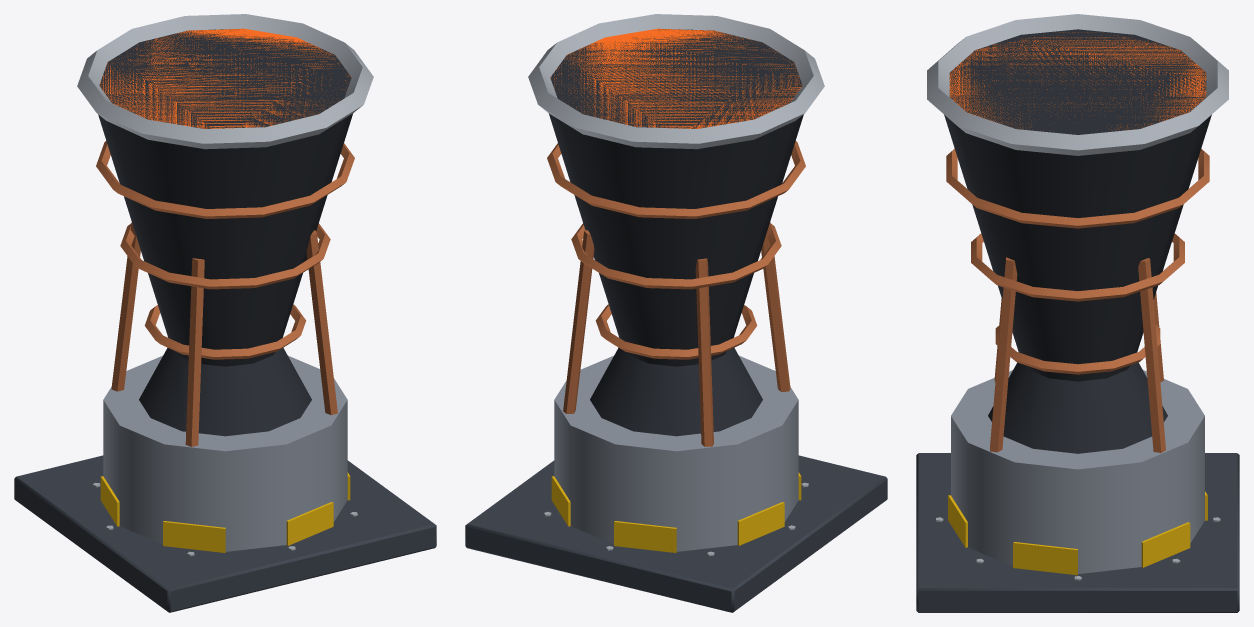
File: nozzle_main_thruster_bell.glb
The picture shows the model from 3 angles, left to right: view 1: azimuth 30°, elevation 25°; view 2: azimuth 150°, elevation 25°; view 3: azimuth 270°, elevation 25°; orthographic projection. The views are drawn at different scales.
Parts seen in each view (by area): view 1: nozzle_main_thruster_bell; view 2: nozzle_main_thruster_bell; view 3: nozzle_main_thruster_bell.
Part boxes in pixels (box(x1,y1,x2,y2)): nozzle_main_thruster_bell: box(14, 14, 436, 612); nozzle_main_thruster_bell: box(465, 14, 887, 612); nozzle_main_thruster_bell: box(916, 14, 1239, 612).
Size of the model in its own units: 1.4 by 2.25 by 1.4.
